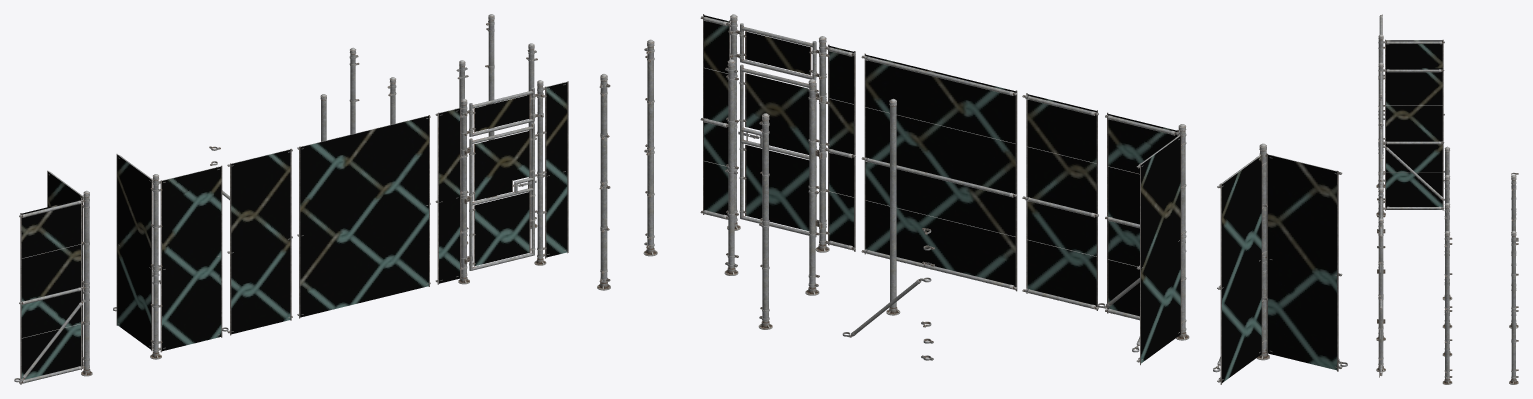
Rendered from modular_chainlink_fence.fbx.
3 renders of one model, left to right at view 1: azimuth 30°, elevation 25°; view 2: azimuth 150°, elevation 25°; view 3: azimuth 270°, elevation 25°, orthographic. The views are drawn at different scales.
Parts seen in each view (by area): view 1: modular_chainlink_fence_double, modular_chainlink_fence_corner_outer, modular_chainlink_fence_door_frame, modular_chainlink_fence_corner_inner, modular_chainlink_fence, modular_chainlink_fence_door_gate, modular_chainlink_fence_start_01_corner_02, modular_chainlink_fence_start_01_corner_01, modular_chainlink_fence_end_02; view 2: modular_chainlink_fence_double, modular_chainlink_fence_corner_inner, modular_chainlink_fence_corner_outer, modular_chainlink_fence_door_frame, modular_chainlink_fence, modular_chainlink_fence_door_gate, modular_chainlink_fence_start_01_corner_02, modular_chainlink_post_middle, modular_chainlink_fence_end_01, modular_chainlink_fence_start_01_corner_01, modular_chainlink_fence_end_02, modular_chainlink_fence_post; view 3: modular_chainlink_fence_corner_outer, modular_chainlink_fence_corner_inner, modular_chainlink_fence_door_frame, modular_chainlink_fence_start_01_corner_01, modular_chainlink_fence_start_01_corner_02, modular_chainlink_fence_end_02, modular_chainlink_fence_double, modular_chainlink_fence_end_01, modular_chainlink_post_middle, modular_chainlink_fence_post.
Part boxes in pixels (bbox=[...]): modular_chainlink_fence_double: bbox=[297, 115, 430, 318]; modular_chainlink_fence_corner_outer: bbox=[113, 154, 228, 359]; modular_chainlink_fence_door_frame: bbox=[435, 80, 568, 284]; modular_chainlink_fence_corner_inner: bbox=[14, 170, 92, 384]; modular_chainlink_fence: bbox=[227, 148, 292, 335]; modular_chainlink_fence_door_gate: bbox=[469, 123, 535, 270]; modular_chainlink_fence_start_01_corner_02: bbox=[485, 14, 496, 198]; modular_chainlink_fence_start_01_corner_01: bbox=[526, 43, 537, 228]; modular_chainlink_fence_end_02: bbox=[349, 47, 359, 134]; modular_chainlink_fence_double: bbox=[861, 53, 1017, 291]; modular_chainlink_fence_corner_inner: bbox=[1213, 143, 1347, 384]; modular_chainlink_fence_corner_outer: bbox=[1097, 112, 1189, 365]; modular_chainlink_fence_door_frame: bbox=[700, 14, 855, 252]; modular_chainlink_fence: bbox=[1022, 93, 1098, 310]; modular_chainlink_fence_door_gate: bbox=[739, 64, 816, 236]; modular_chainlink_fence_start_01_corner_02: bbox=[597, 74, 610, 290]; modular_chainlink_post_middle: bbox=[724, 59, 738, 275]; modular_chainlink_fence_end_01: bbox=[805, 79, 819, 295]; modular_chainlink_fence_start_01_corner_01: bbox=[643, 39, 657, 256]; modular_chainlink_fence_end_02: bbox=[758, 113, 772, 329]; modular_chainlink_fence_post: bbox=[886, 98, 900, 315]; modular_chainlink_fence_corner_outer: bbox=[1376, 62, 1449, 233]; modular_chainlink_fence_corner_inner: bbox=[1376, 14, 1449, 188]; modular_chainlink_fence_door_frame: bbox=[1376, 182, 1385, 377]; modular_chainlink_fence_start_01_corner_01: bbox=[1442, 231, 1452, 384]; modular_chainlink_fence_start_01_corner_02: bbox=[1509, 231, 1518, 384]; modular_chainlink_fence_end_02: bbox=[1509, 175, 1518, 328]; modular_chainlink_fence_double: bbox=[1379, 126, 1382, 183]; modular_chainlink_fence_end_01: bbox=[1442, 175, 1452, 328]; modular_chainlink_post_middle: bbox=[1442, 203, 1452, 356]; modular_chainlink_fence_post: bbox=[1442, 146, 1452, 300].
Bounding box in the file's own units: 812 × 252 × 215.
